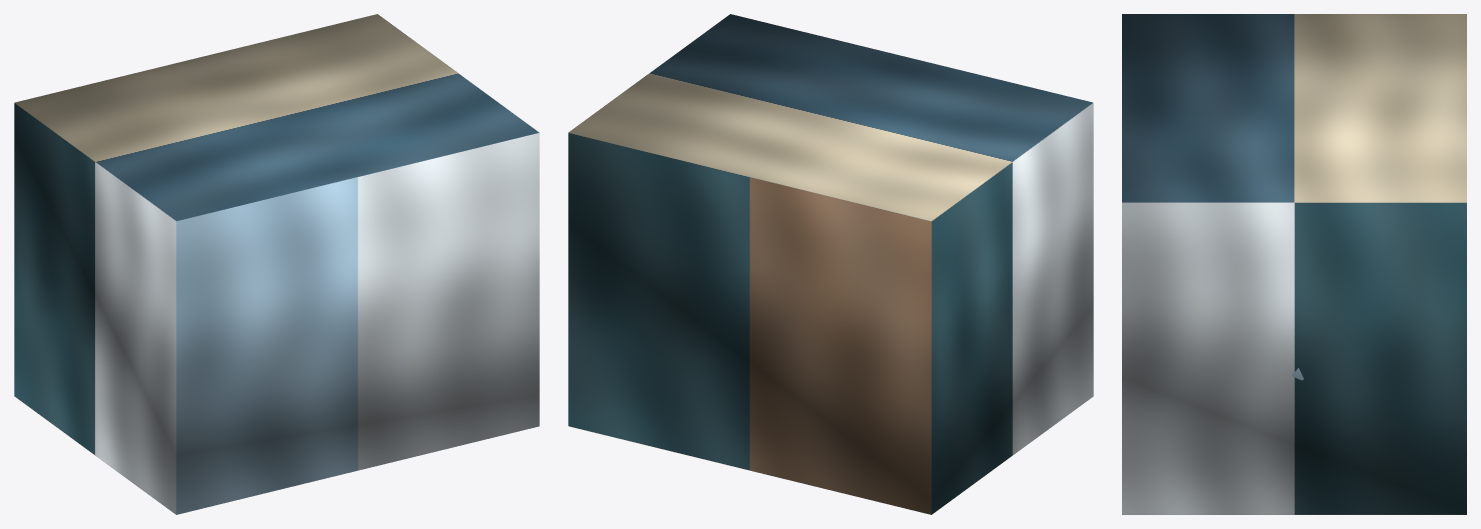
Rendered from rock_snow_a.glb.
3 renders of one model, left to right at view 1: azimuth 30°, elevation 25°; view 2: azimuth 150°, elevation 25°; view 3: azimuth 270°, elevation 25°, orthographic. The views are drawn at different scales.
Visible parts, largest first — view 1: col; view 2: col; view 3: col.
Boxes of the visible parts, <box> form: col: <box>14,14,539,514</box>; col: <box>568,14,1093,514</box>; col: <box>1122,14,1466,514</box>.
Bounding box in the file's own units: 2.16 × 1.67 × 1.67.
1 material, 1 textured.
